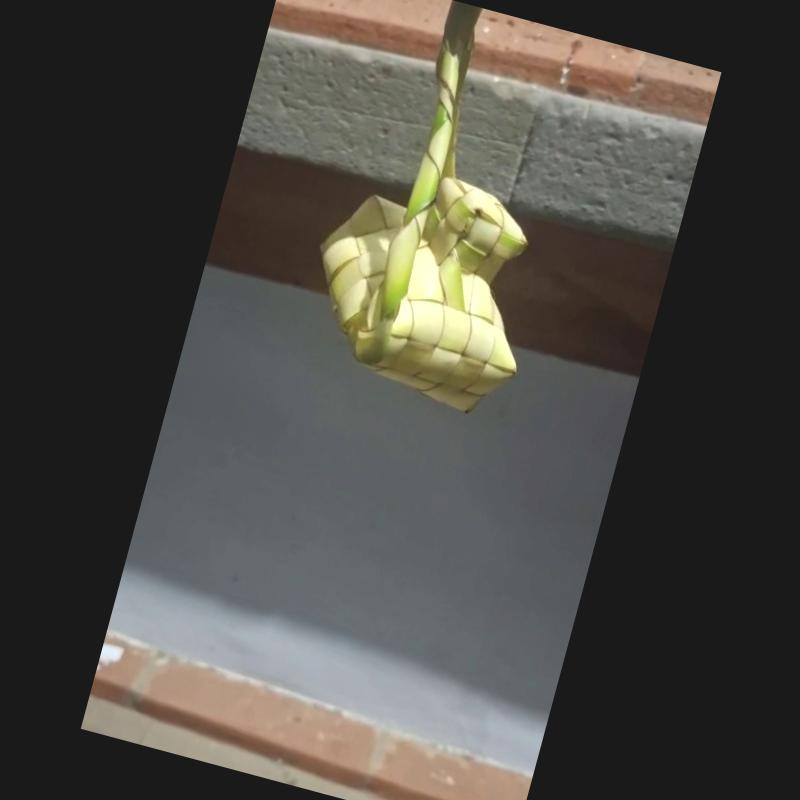Tipat Gong: (321, 0, 529, 412)
